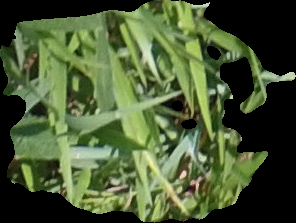grass: (1, 1, 294, 222)
